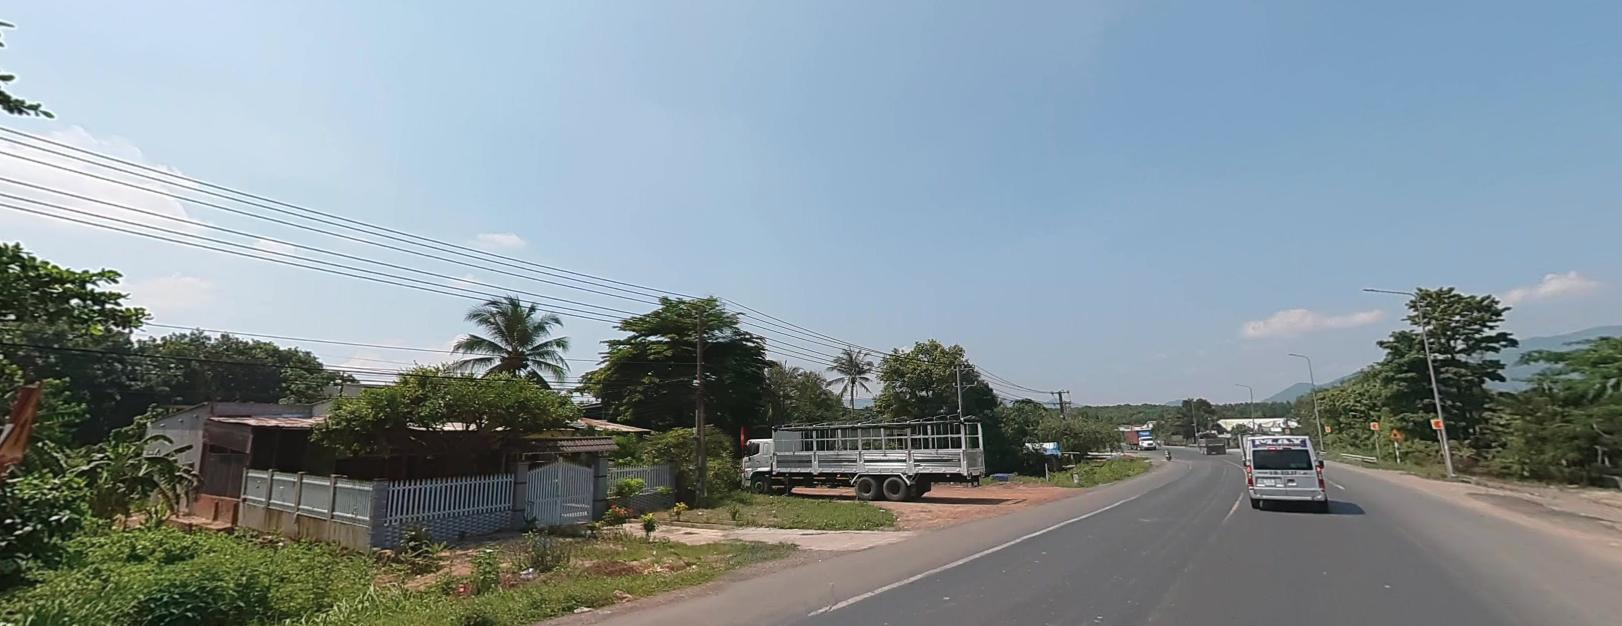Nguy hiem: (1389, 426, 1402, 439), (1389, 425, 1402, 437), (1388, 426, 1400, 437)
